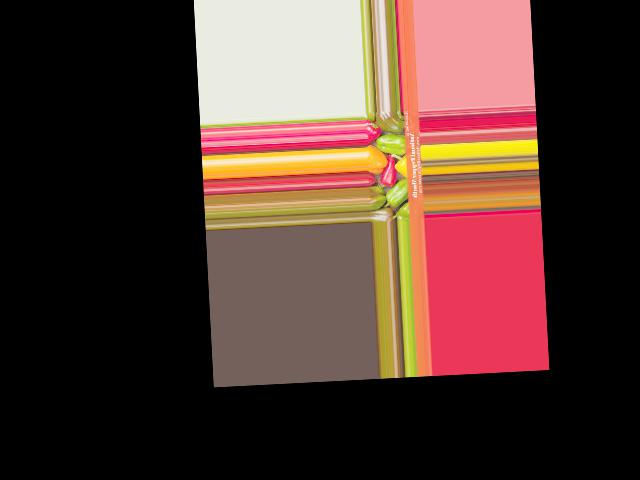bell_pepper: (375, 110, 405, 133)
